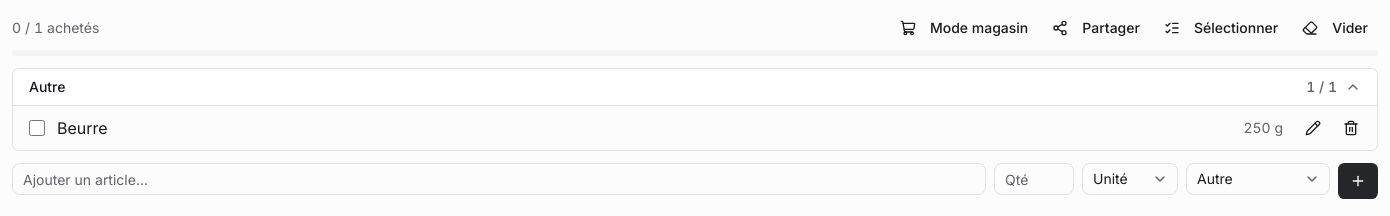
Test case: ShoppingListView › modifie la quantité en place avec Entrée
Click the button named "Modifier la quantité de Beurre": [1263, 128] box [1239,118,1287,138]
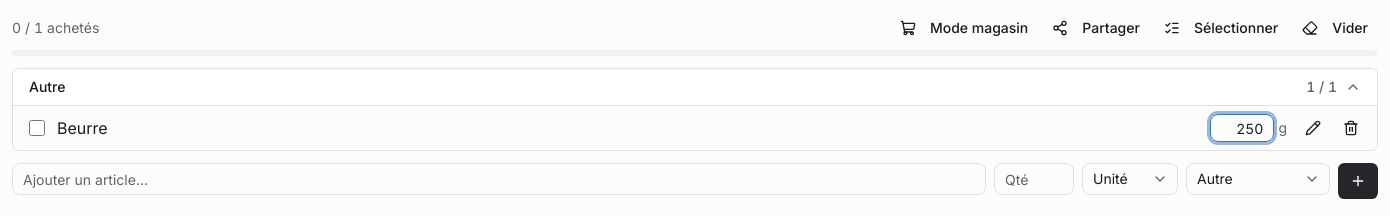
Replace the text in the field named "Quantité de Beurre" with "0,5": [1242, 128] box [1210,114,1274,142]
Then press Enter
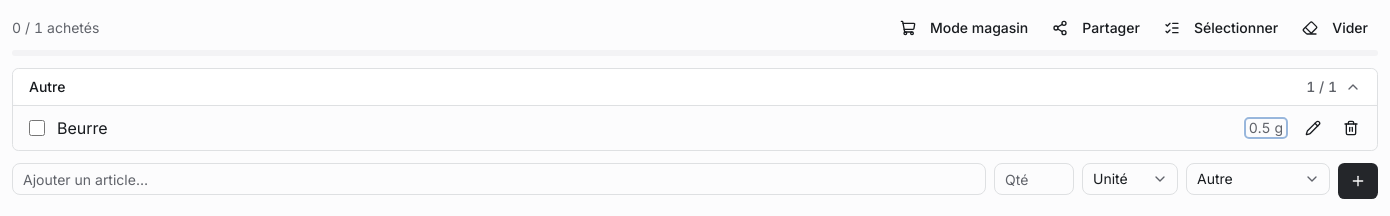
Result: the button named "Modifier la quantité de Beurre (0.5 g)" is shown at [1245,118,1287,138]
